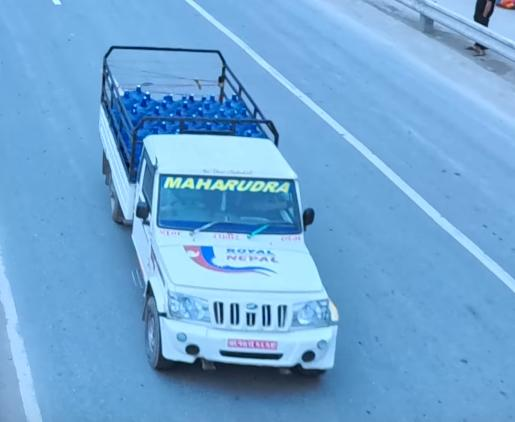transport_vehicle: (94, 38, 350, 382)
